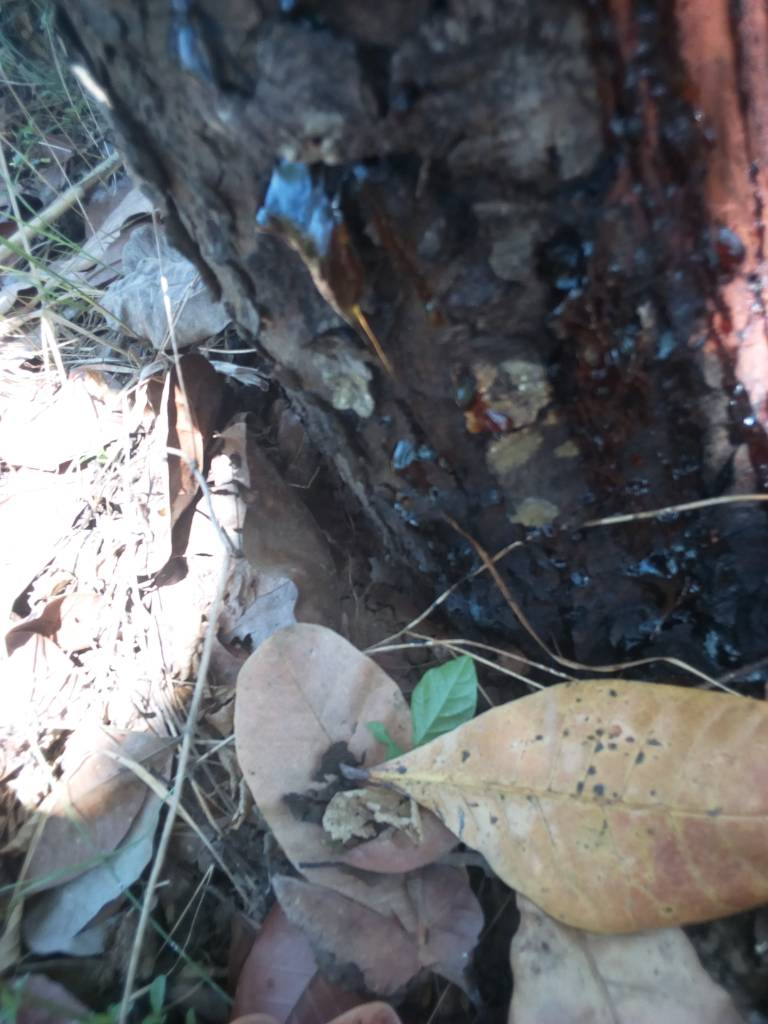Gommose: (407, 27, 768, 663)
